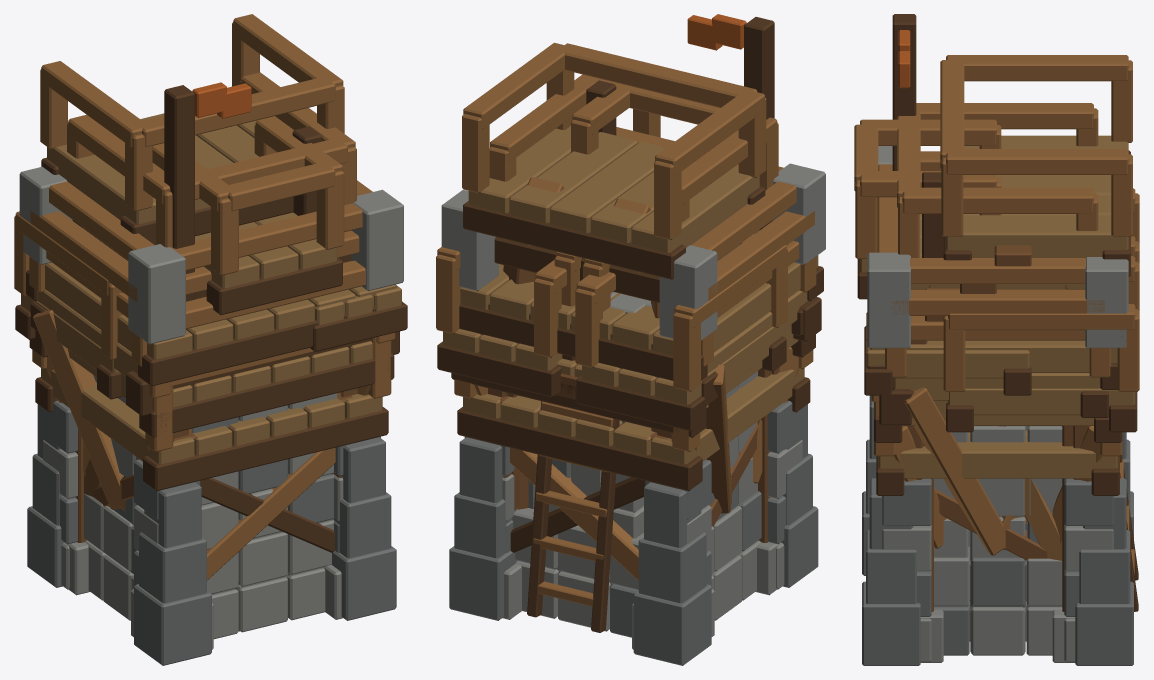
File: archers.glb
3 renders of one model, left to right at view 1: azimuth 30°, elevation 25°; view 2: azimuth 150°, elevation 25°; view 3: azimuth 270°, elevation 25°, orthographic.
Parts seen in each view (by area): view 1: structure.002, structure.004, structure.006, structure, structure.001, structure.005, structure.003; view 2: structure.002, structure.004, structure.006, structure.001, structure, structure.003, structure.005; view 3: structure.002, structure.004, structure.006, structure.001, structure.005, structure.003, structure.
Part boxes in pixels (x1,y1,x2,y2): structure.002: [19, 166, 403, 665]; structure.004: [40, 14, 407, 351]; structure.006: [14, 116, 380, 589]; structure: [32, 337, 391, 649]; structure.001: [29, 251, 395, 631]; structure.005: [29, 211, 399, 636]; structure.003: [67, 72, 356, 496]; structure.002: [441, 127, 825, 665]; structure.004: [462, 14, 774, 585]; structure.006: [436, 82, 802, 589]; structure.001: [451, 240, 816, 637]; structure: [454, 350, 813, 649]; structure.003: [489, 74, 778, 509]; structure.005: [519, 211, 821, 636]; structure.002: [862, 146, 1133, 665]; structure.004: [864, 14, 1132, 641]; structure.006: [854, 119, 1139, 662]; structure.001: [871, 316, 1138, 655]; structure.005: [879, 289, 1111, 662]; structure.003: [897, 103, 1098, 560]; structure: [874, 402, 1122, 662].
Size of the model in its own units: 1.42 by 2.8 by 1.31.
